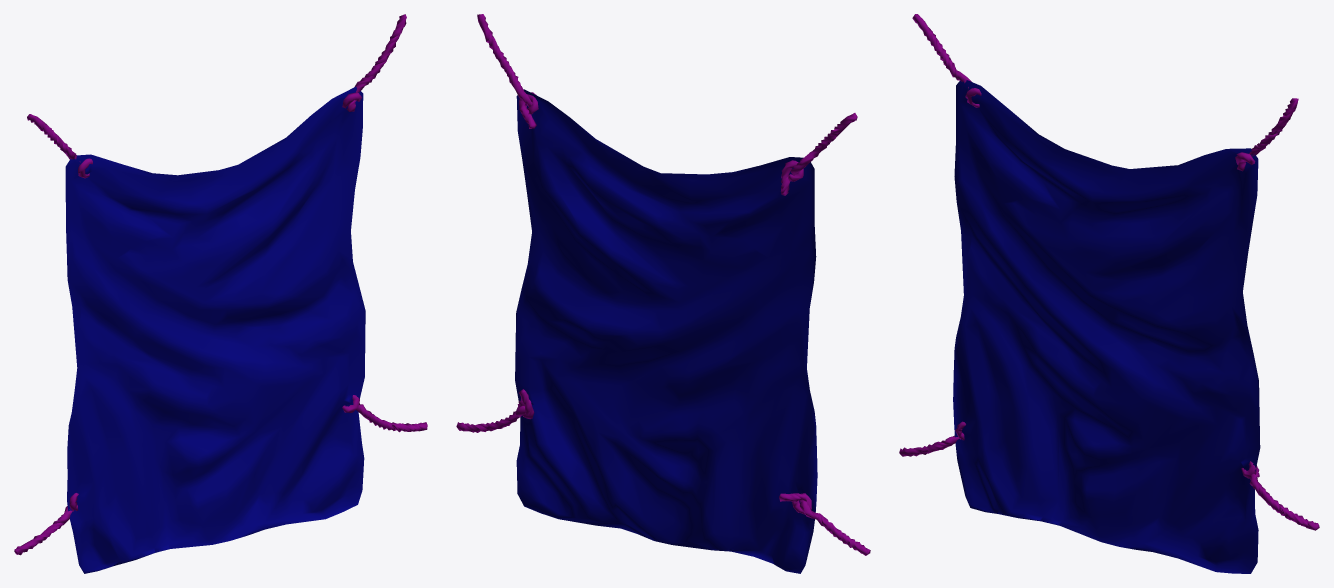
Rendered from LDI_Tenture 1.fbx.
3 renders of one model, left to right at view 1: azimuth 30°, elevation 25°; view 2: azimuth 150°, elevation 25°; view 3: azimuth 330°, elevation 25°, orthographic.
Visible parts, largest first — view 1: LDI_Tenture; view 2: LDI_Tenture; view 3: LDI_Tenture.
Boxes of the visible parts, x1=… form: LDI_Tenture: x1=14, y1=14, x2=427, y2=573; LDI_Tenture: x1=456, y1=14, x2=870, y2=573; LDI_Tenture: x1=899, y1=14, x2=1319, y2=573.
Bounding box in the file's own units: 617 × 694 × 41.74.
